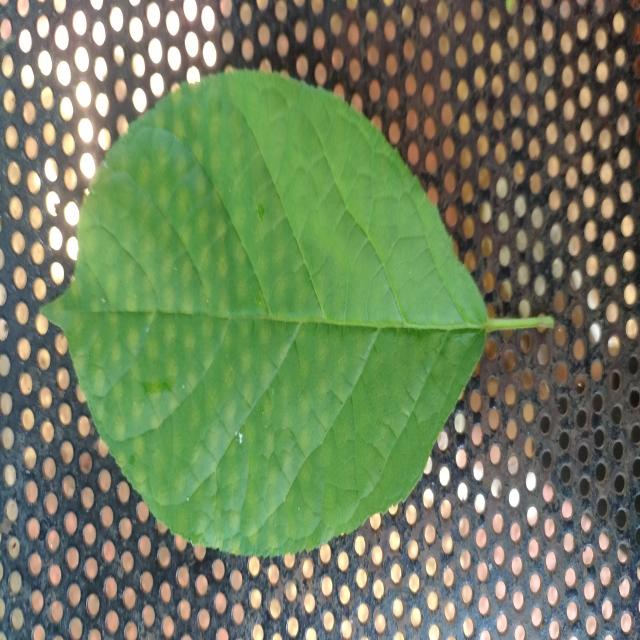padri: (48, 71, 490, 556)
